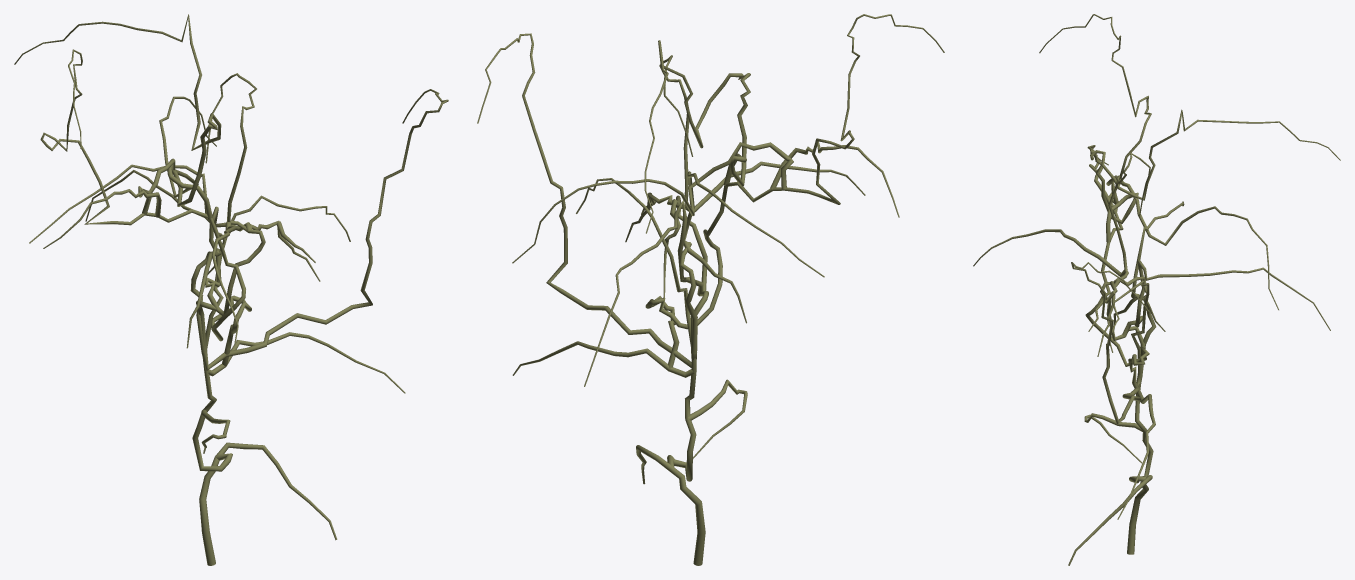
The model's file is Industrial_Ruin_Vine1.fbx.
The picture shows the model from 3 angles, left to right: view 1: azimuth 30°, elevation 25°; view 2: azimuth 150°, elevation 25°; view 3: azimuth 270°, elevation 25°; orthographic projection. The views are drawn at different scales.
Visible parts, largest first — view 1: IVY_Curve.001; view 2: IVY_Curve.001; view 3: IVY_Curve.001.
Boxes of the visible parts, x1=… form: IVY_Curve.001: x1=14, y1=14, x2=448, y2=565; IVY_Curve.001: x1=477, y1=14, x2=944, y2=565; IVY_Curve.001: x1=973, y1=14, x2=1340, y2=565.
Size of the model in its own units: 535 by 726 by 509.
